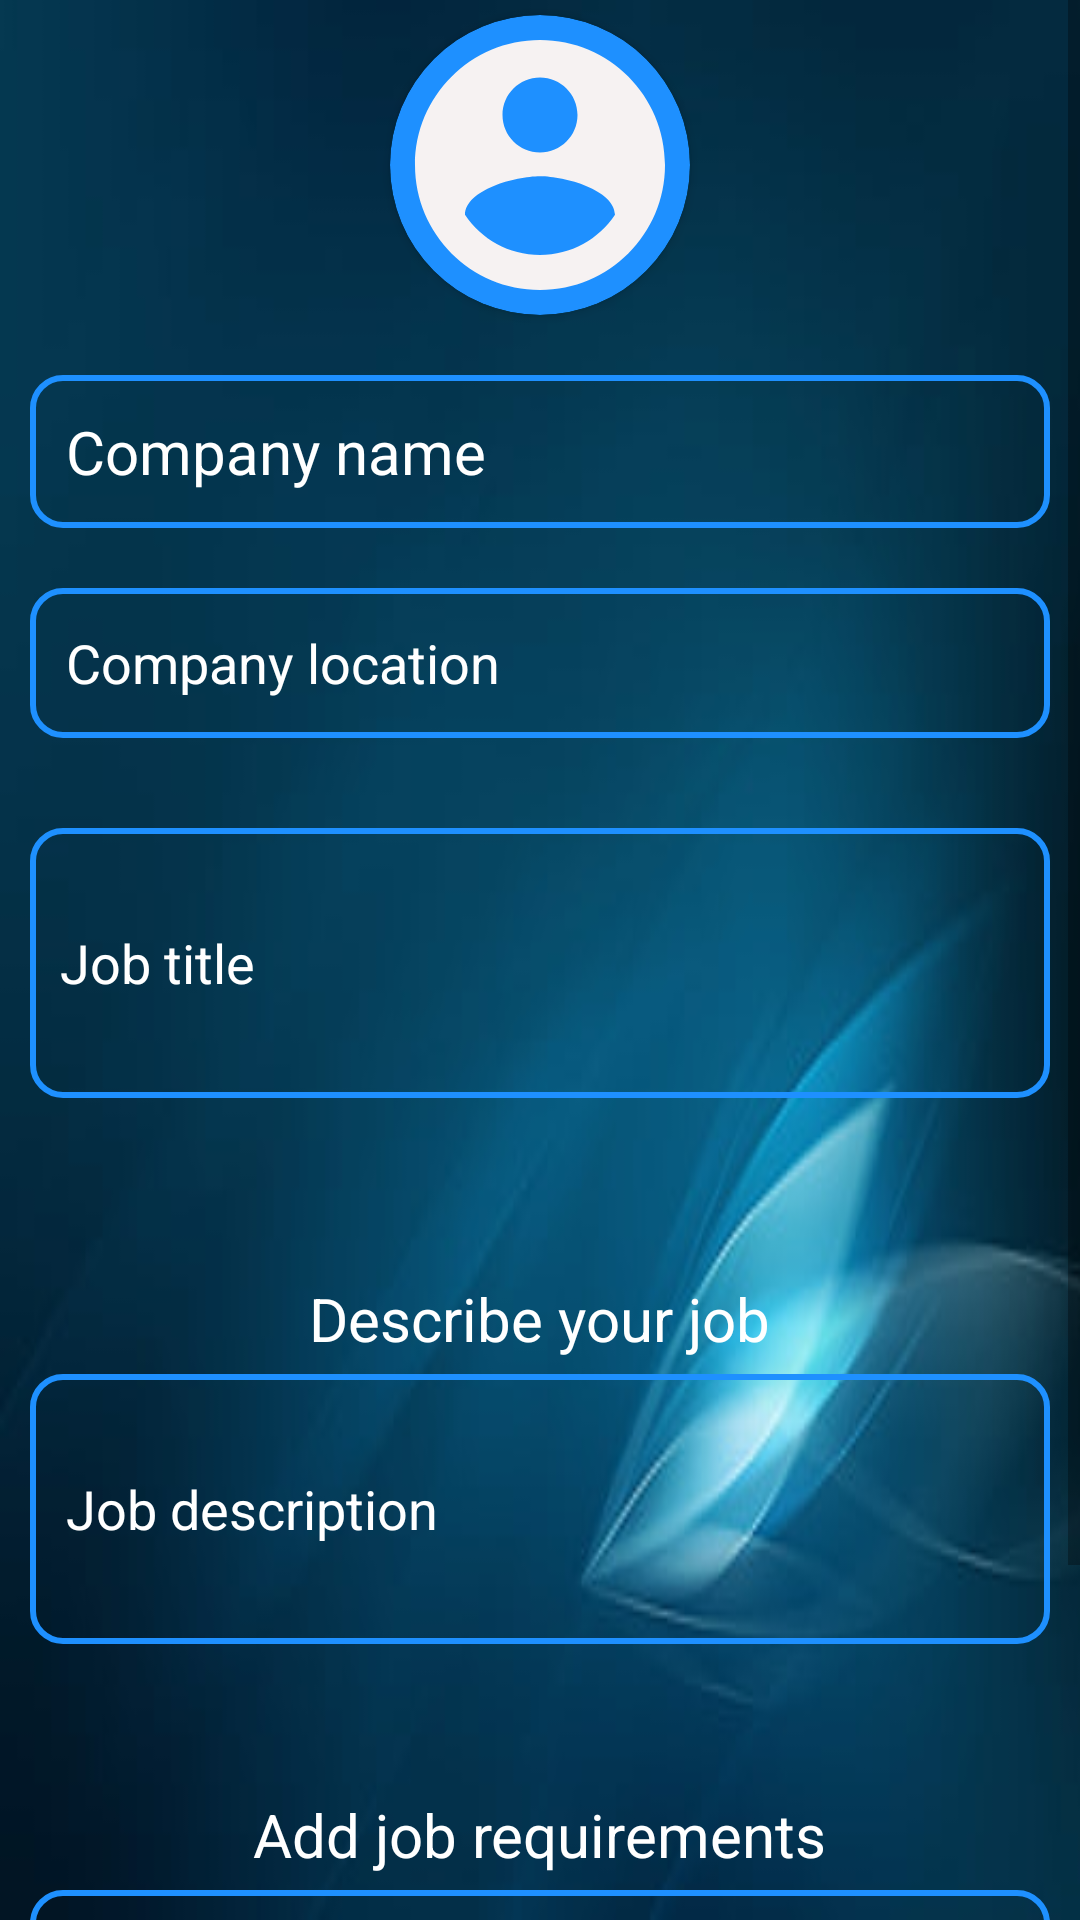

Screen size 1080×1920. Icon name, then its center in pixels as point (x, y):
account: point (540, 165)
